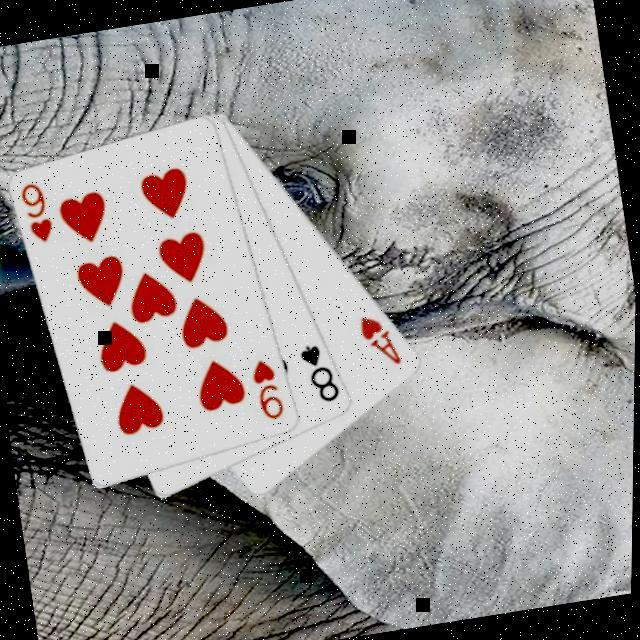8S: (296, 337, 347, 408)
9H: (248, 352, 292, 424), (17, 178, 60, 248)
AH: (356, 307, 410, 373)
